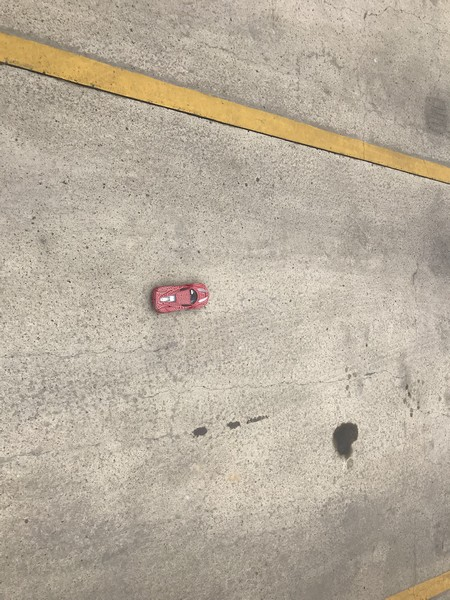RC: (149, 281, 210, 315)
